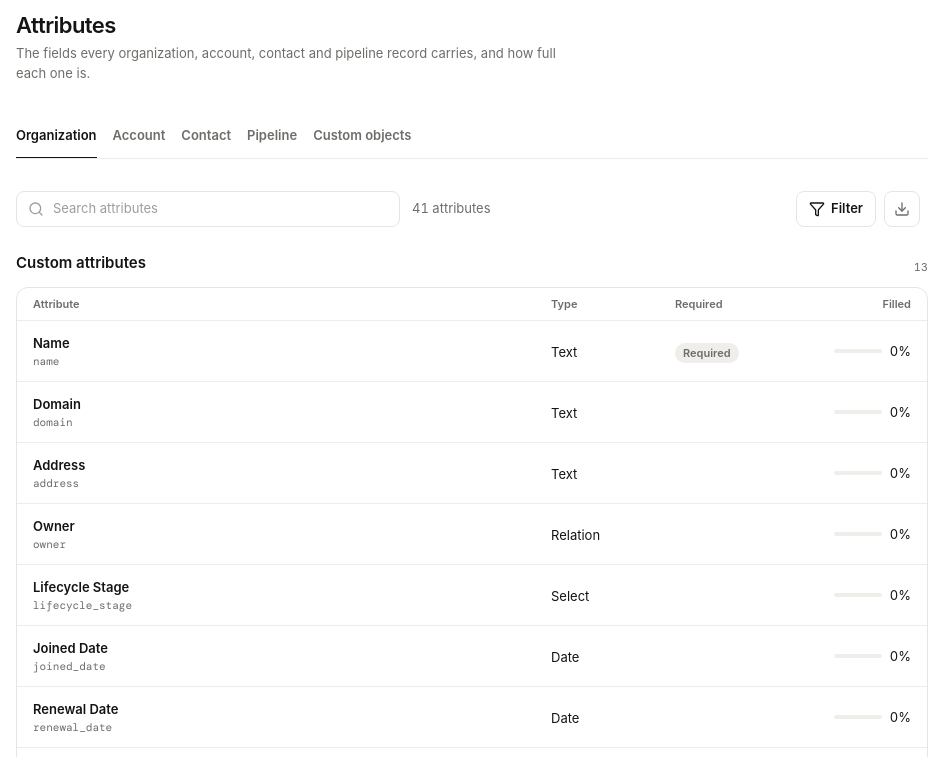
it: SettingsPage — Data tab, Organization sub-tab › switching to Custom Objects shows the real page, not the table
Step 1. Click the tab "Custom objects" → (362, 136), box x1=313 y1=114 x2=412 y2=158
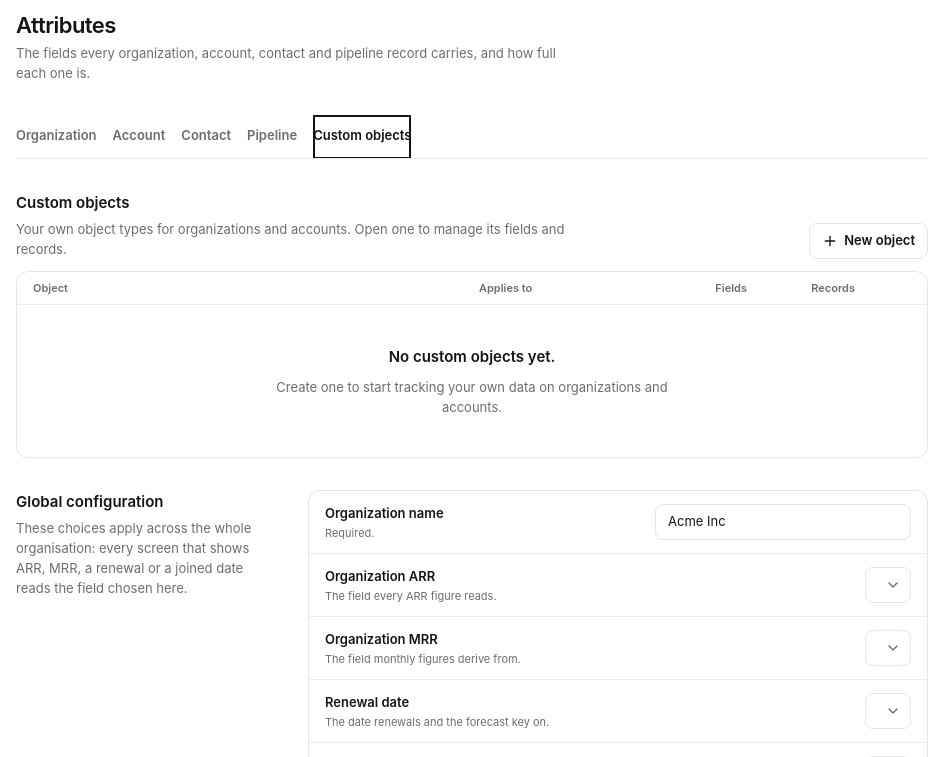
Now the heading "Custom attributes" is gone
Now the text "No custom objects yet." is shown, box x1=389 y1=345 x2=555 y2=369
Now the button "New object" is shown, box x1=809 y1=223 x2=928 y2=259
